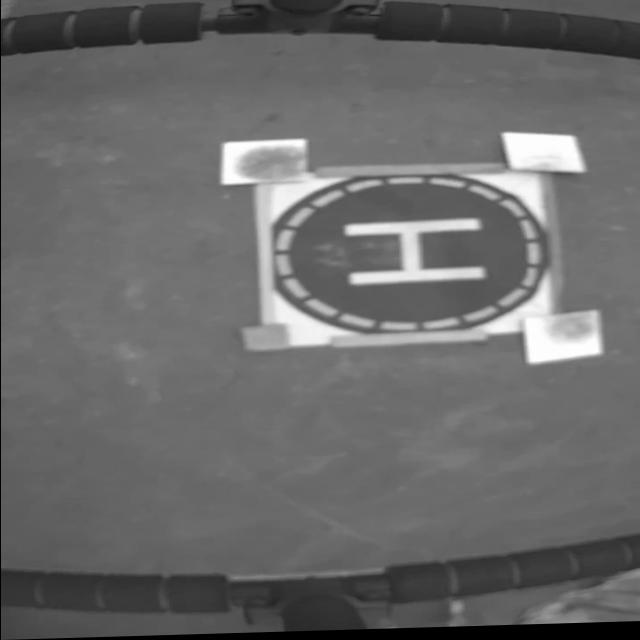Helipad: (341, 221, 488, 290)
